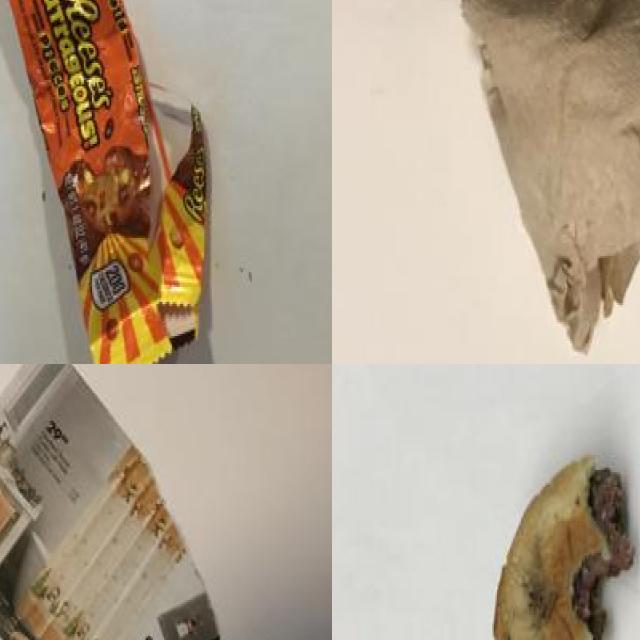compost: (469, 423, 640, 640)
paper: (0, 385, 266, 640)
trash: (0, 0, 240, 364), (415, 0, 640, 340)
